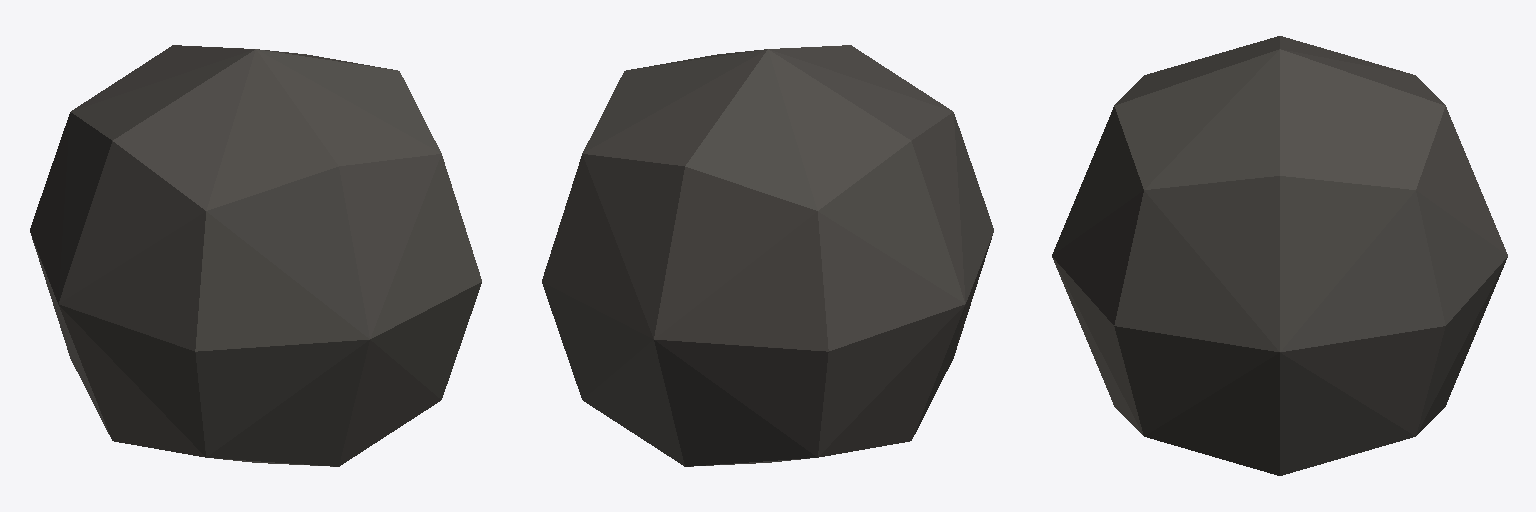
The picture shows the model from 3 angles: view 1: azimuth 30°, elevation 25°; view 2: azimuth 150°, elevation 25°; view 3: azimuth 270°, elevation 25°; orthographic projection.
Visible parts, largest first — view 1: Cube; view 2: Cube; view 3: Cube.
Part boxes in pixels (bbox=[...]): Cube: bbox=[30, 45, 481, 466]; Cube: bbox=[542, 45, 993, 466]; Cube: bbox=[1052, 36, 1507, 475].
Size of the model in its own units: 1.68 by 1.68 by 1.68.
Materials: 1 (1 with a texture image).